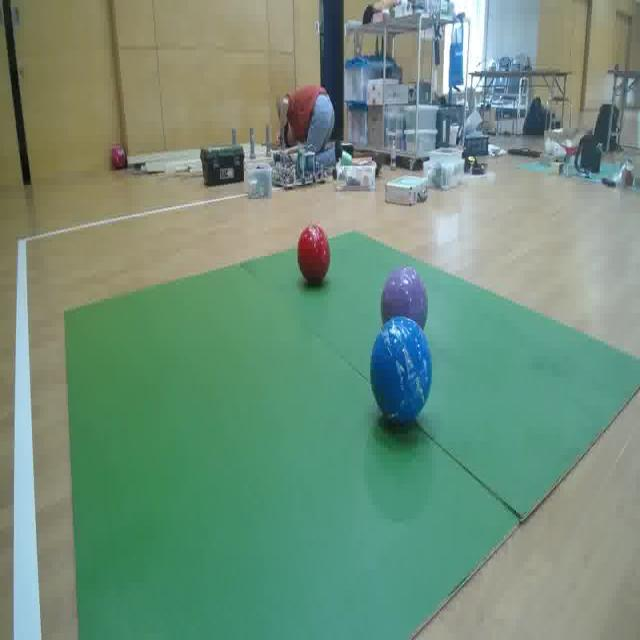blue_ball: (370, 318, 433, 424)
purple_ball: (382, 266, 426, 332)
red_ball: (298, 224, 330, 283)
